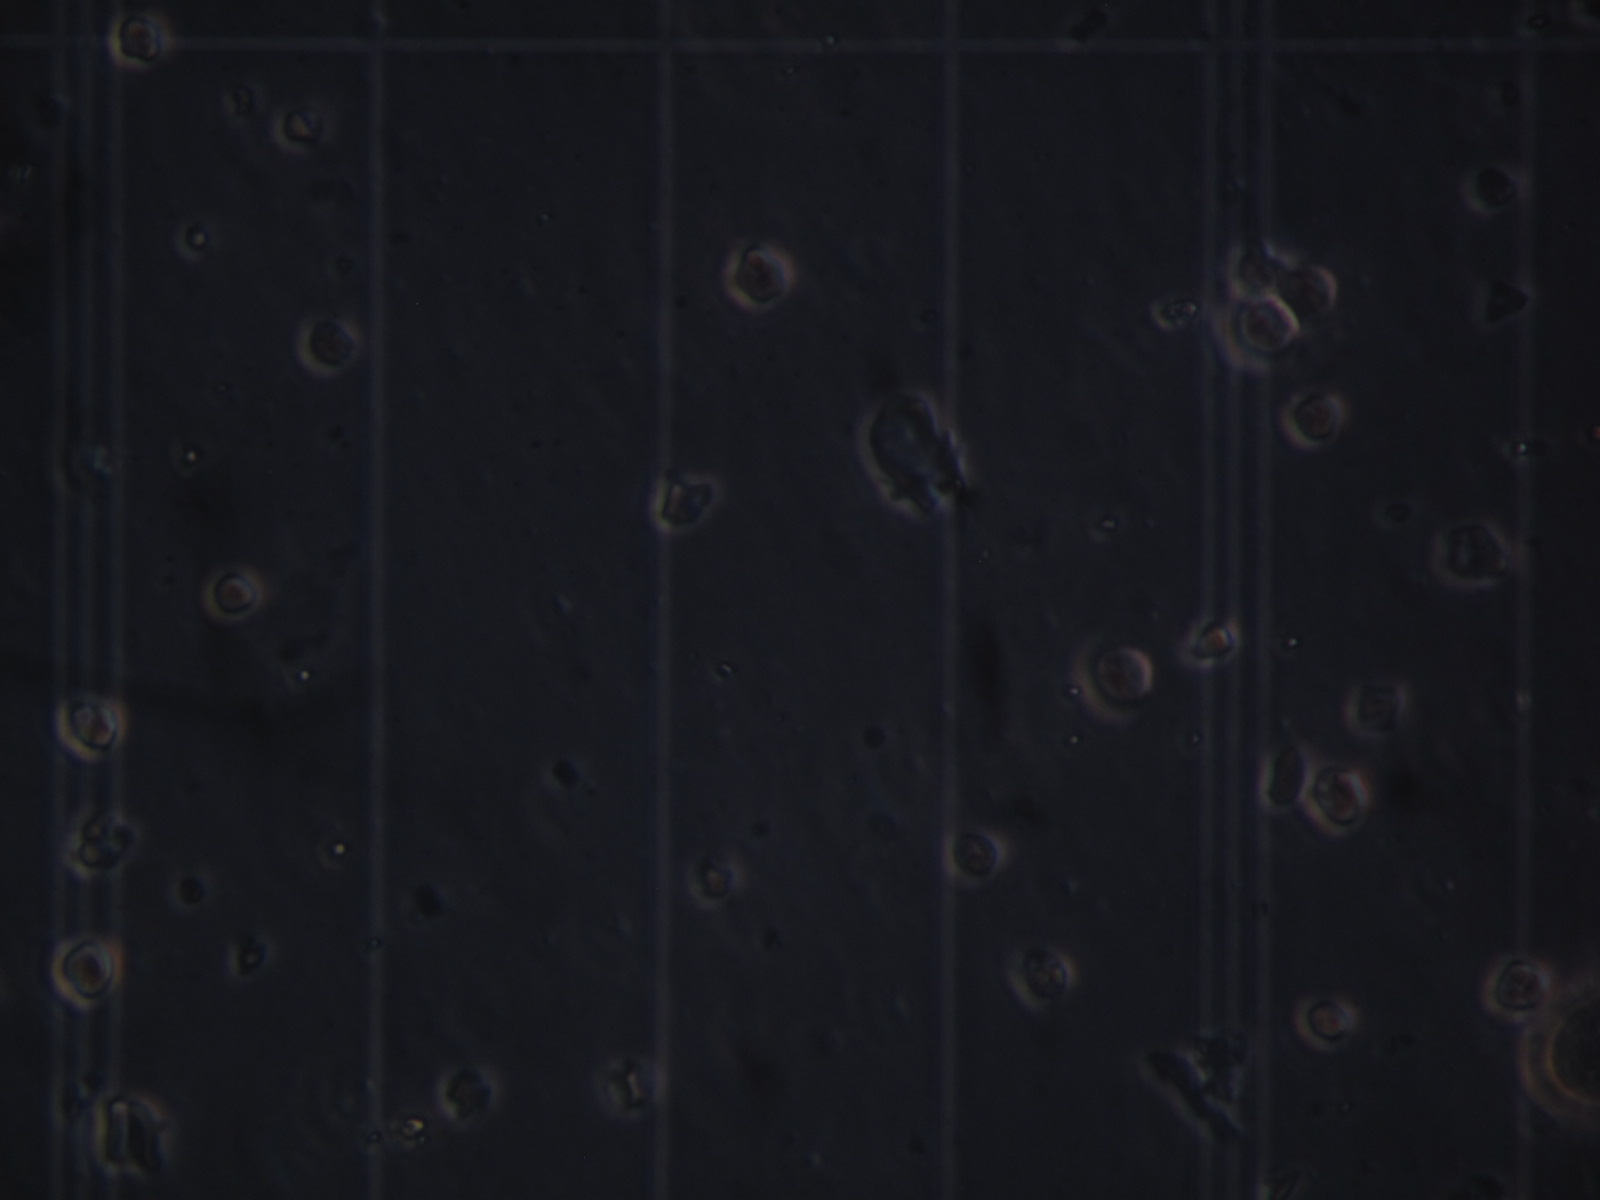hemo: (1070, 632, 1157, 729), (93, 1085, 169, 1182), (1220, 292, 1301, 373), (1431, 516, 1513, 595), (1301, 756, 1369, 839), (721, 239, 797, 313), (1477, 950, 1553, 1024), (68, 805, 139, 884), (50, 934, 121, 1011), (54, 693, 129, 764), (1008, 942, 1078, 1008), (596, 1054, 666, 1121), (294, 313, 364, 378), (940, 822, 1008, 889), (651, 471, 721, 536), (1294, 991, 1357, 1053), (1344, 678, 1409, 739), (1283, 389, 1349, 447), (1227, 236, 1289, 297), (1275, 263, 1339, 321), (204, 563, 265, 623), (111, 13, 173, 69), (1264, 740, 1311, 813), (438, 1066, 499, 1123), (1461, 161, 1524, 214), (689, 855, 745, 910), (1183, 619, 1241, 666)
